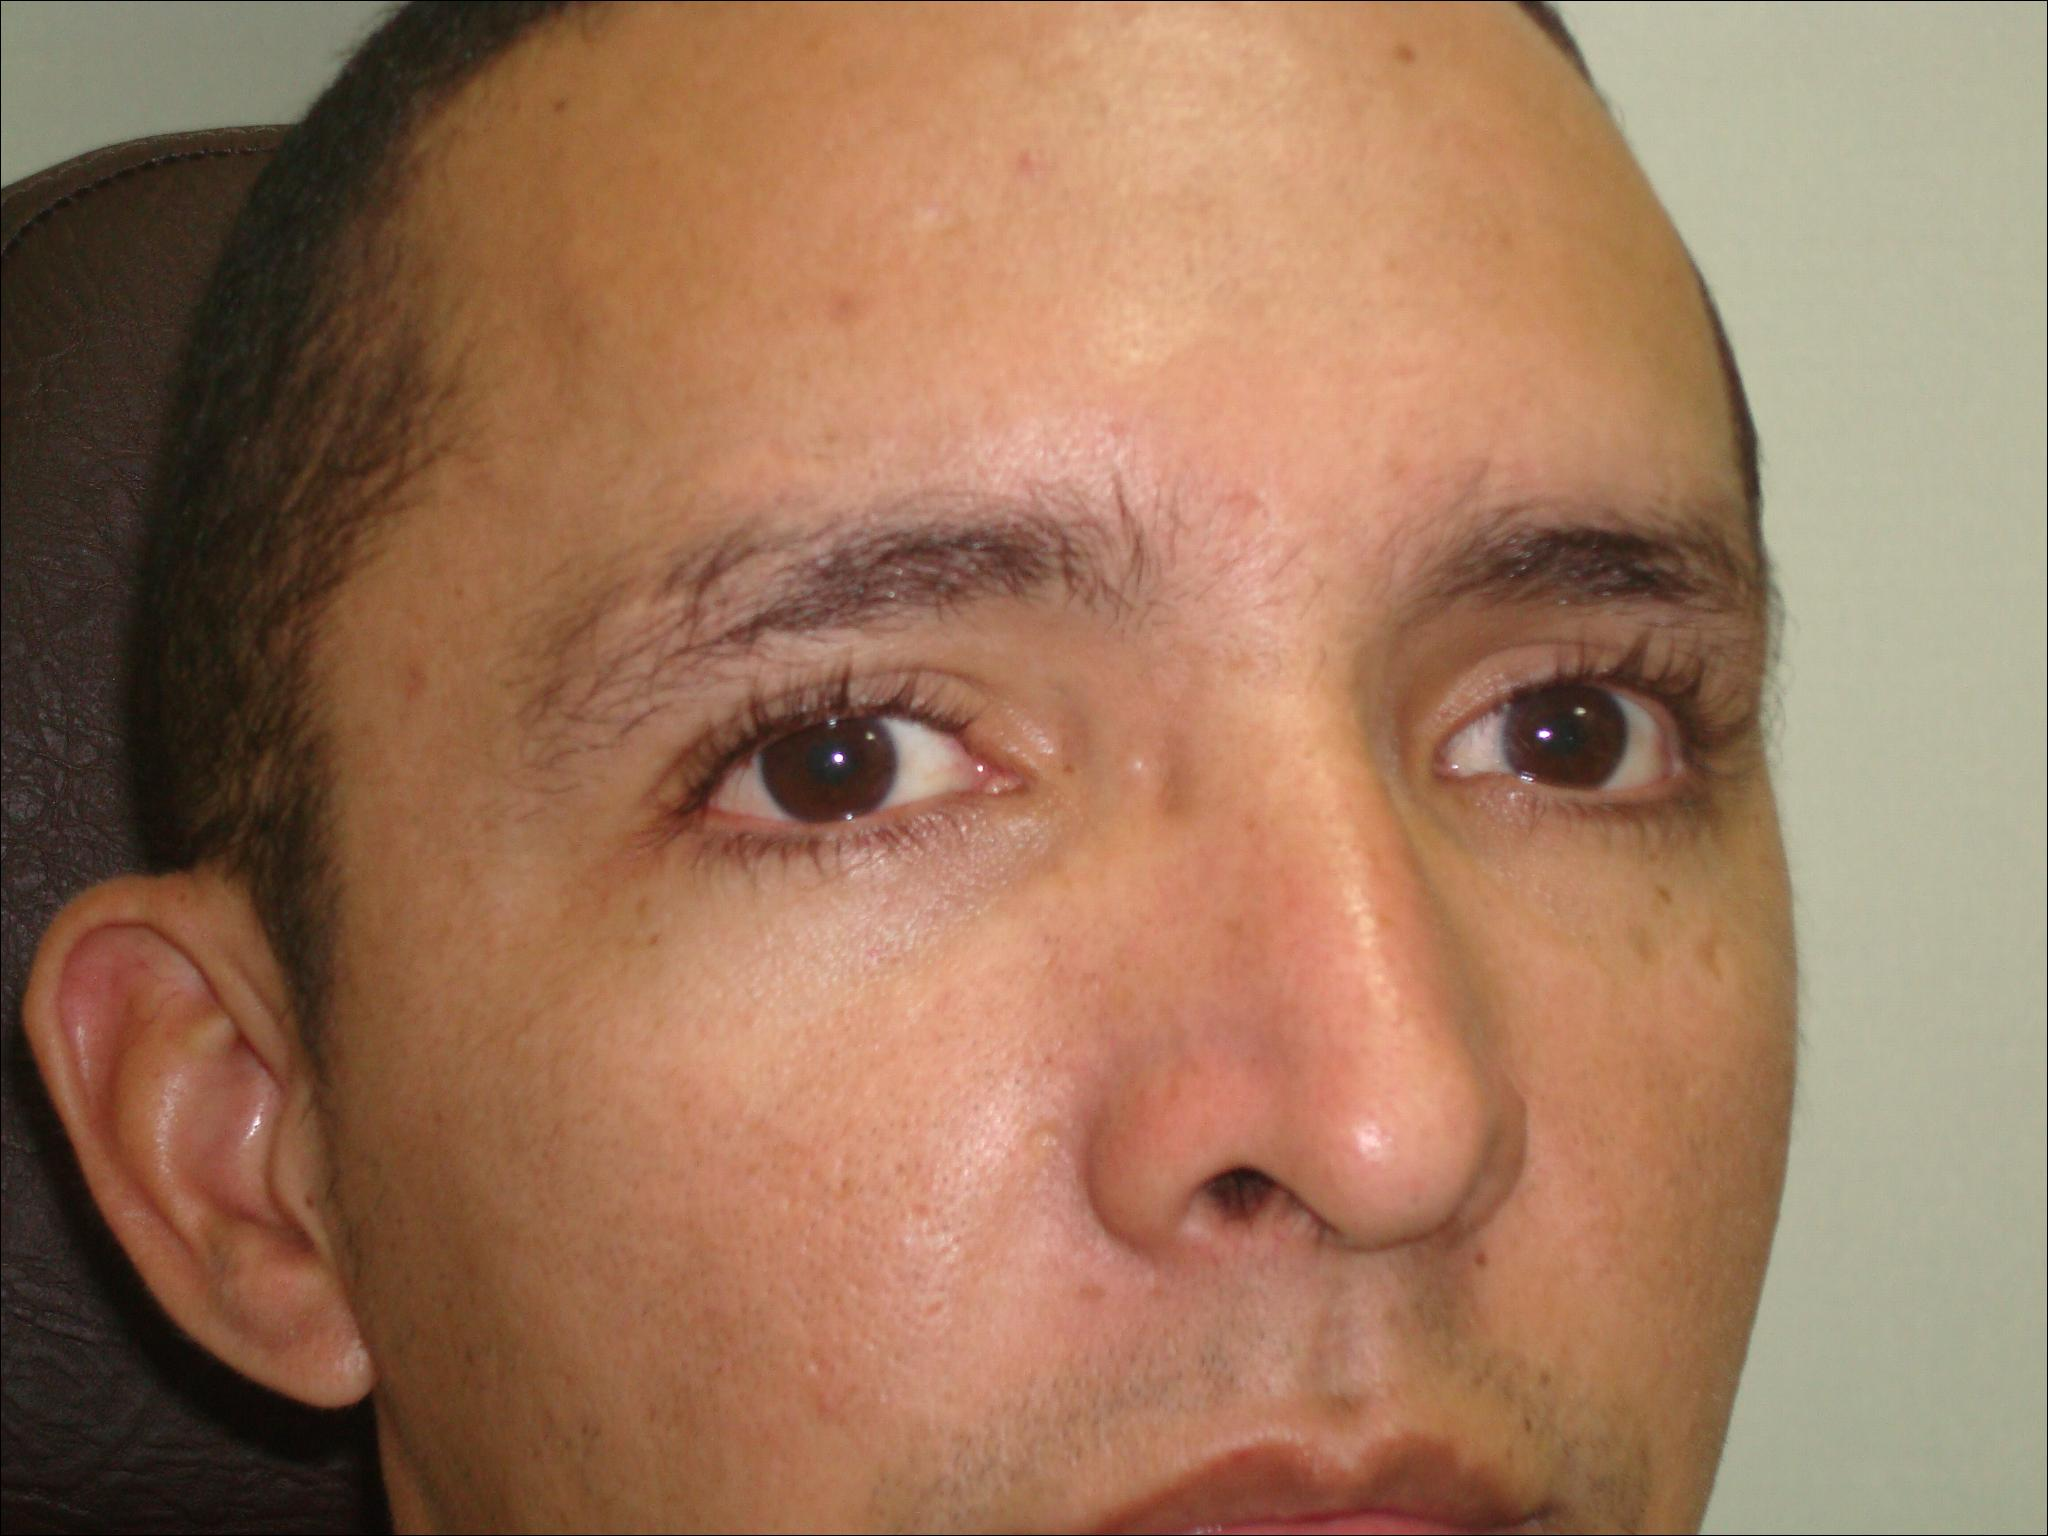flash: (1532, 720, 1558, 749), (826, 745, 851, 770)
limbo: (763, 700, 898, 823), (1496, 676, 1621, 795)
